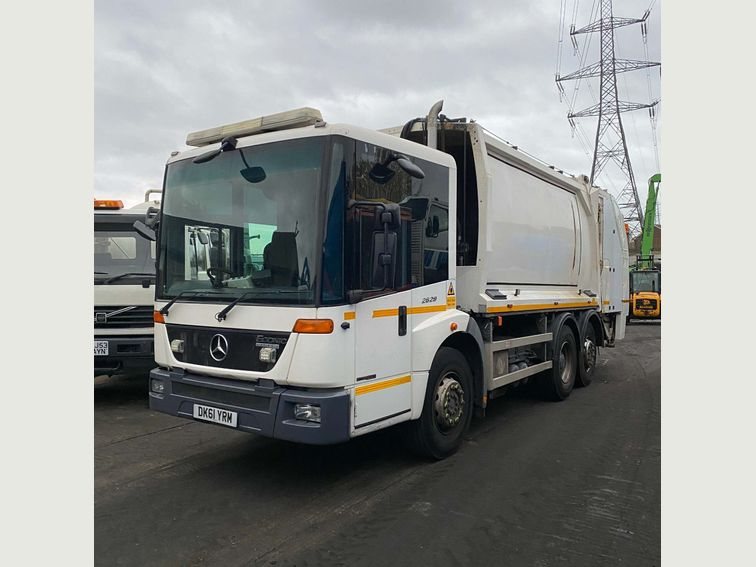Semi: (152, 107, 628, 460)
